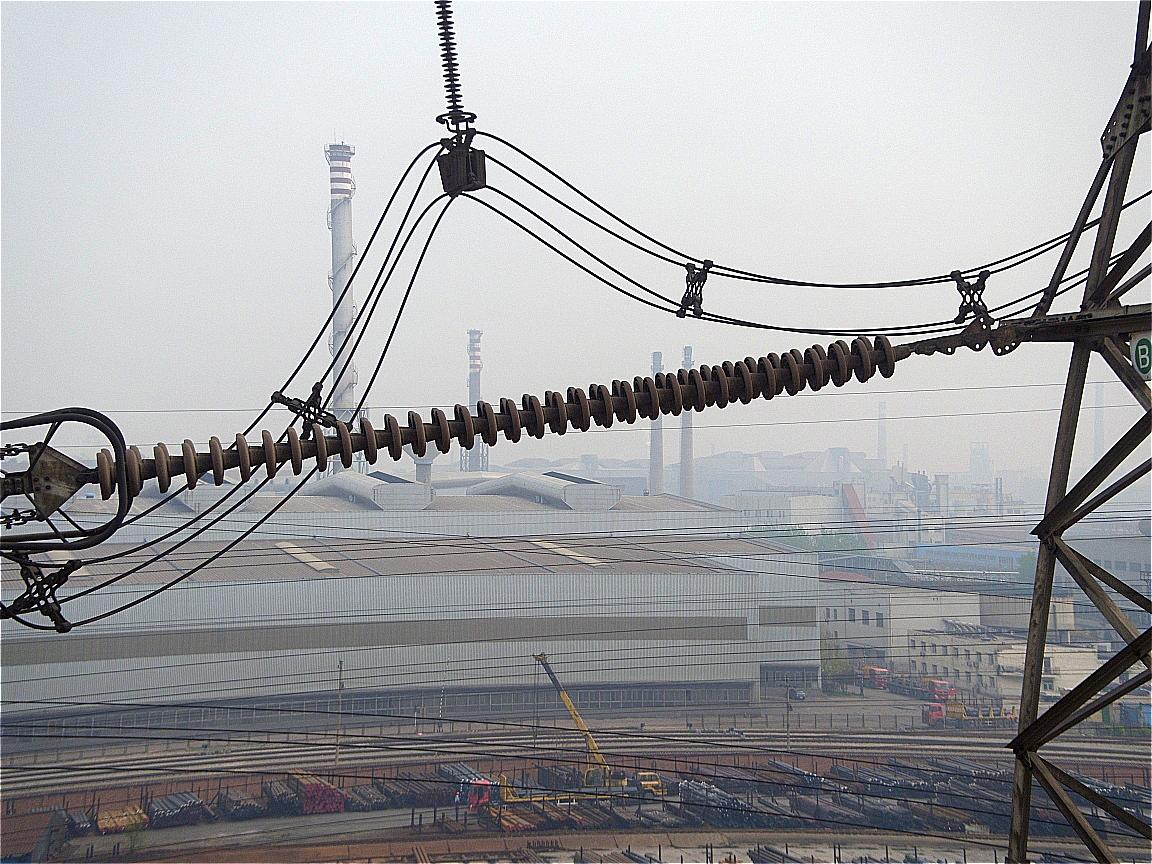insultor1: (83, 327, 933, 529)
